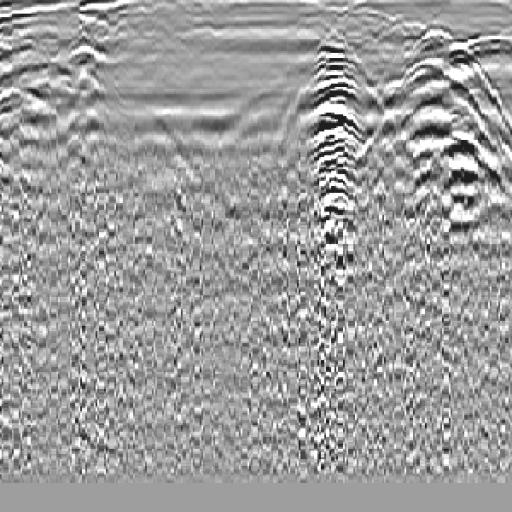metalic: (258, 31, 419, 326)
